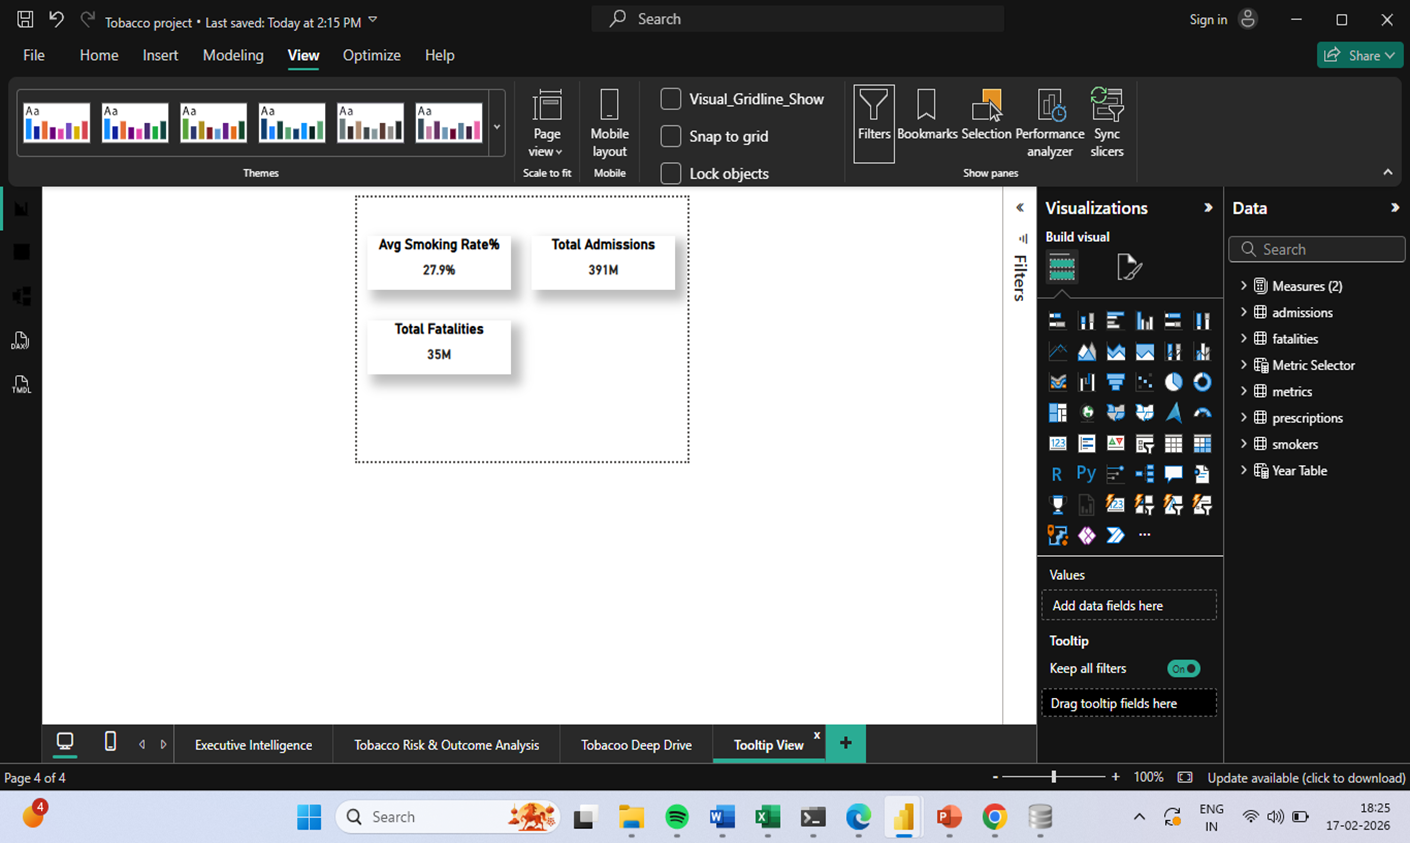

This screenshot's page, from the dashboard's own definition file:
{"tool":"powerbi","page":{"name":"Tooltip View","canvas":[320,240],"ordinal":3},"visuals":[{"type":"card","title":"Avg Smoking Rate%","fields":{"Values":["Measures (2).Avg Smoking Rate"]},"box":[10,35,139,49],"z":0},{"type":"card","title":"Total  Admissions","fields":{"Values":["Measures (2).Total Admissions"]},"box":[169,35,139,49],"z":1000},{"type":"card","title":"Total Fatalities","fields":{"Values":["Measures (2).Total Fatalities"]},"box":[10,112,139,49],"z":2000}]}

Visuals, with their boxes on the page's 320x240 design canvas (x1, y1, x2, y2). These are canvas units, not pixel positions in the 1410x843 screenshot, which may show the page scaled, cropped or inside an application window:
"Avg Smoking Rate%" card: left=10, top=35, right=149, bottom=84
"Total  Admissions" card: left=169, top=35, right=308, bottom=84
"Total Fatalities" card: left=10, top=112, right=149, bottom=161
